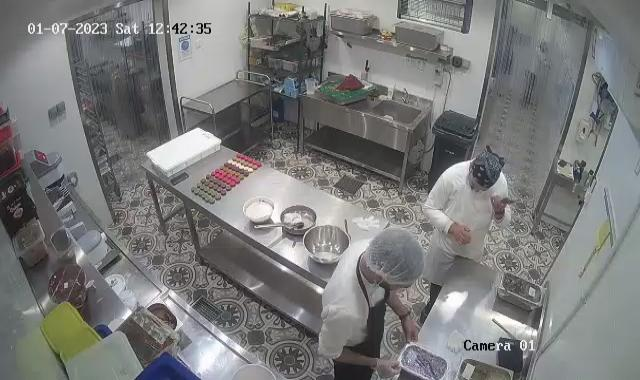hairnet: (364, 228, 426, 290)
no_hairnet: (469, 146, 505, 191)
